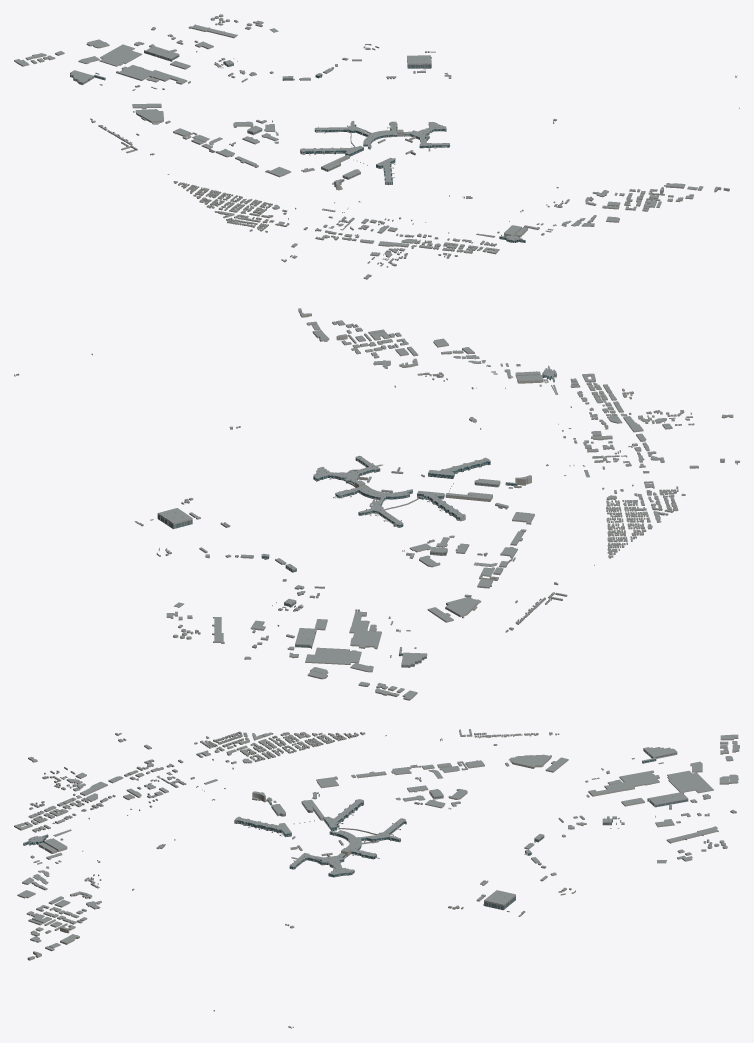
Rendered from airport-detail.glb.
3 views of the same model, one above another, from view 1: azimuth 30°, elevation 25°; view 2: azimuth 150°, elevation 25°; view 3: azimuth 270°, elevation 25° (orthographic). The views are drawn at different scales.
Visible parts, largest first — view 1: building.003, terminal.003, SFO detail · glass.002, hangar.003, parking.003; view 2: building.003, terminal.003, SFO detail · glass.002, hangar.003, parking.003; view 3: building.003, terminal.003, SFO detail · glass.002, hangar.003, parking.003.
Boxes of the visible parts, x1=… form: building.003: x1=14, y1=14, x2=739, y2=279; terminal.003: x1=94, y1=73, x2=525, y2=242; SFO detail · glass.002: x1=94, y1=74, x2=525, y2=242; hangar.003: x1=144, y1=46, x2=431, y2=80; parking.003: x1=70, y1=70, x2=360, y2=179; building.003: x1=14, y1=308, x2=739, y2=700; terminal.003: x1=261, y1=365, x2=556, y2=656; SFO detail · glass.002: x1=261, y1=369, x2=556, y2=655; hangar.003: x1=157, y1=508, x2=316, y2=648; parking.003: x1=401, y1=478, x2=500, y2=667; building.003: x1=14, y1=729, x2=739, y2=1028; terminal.003: x1=23, y1=757, x2=656, y2=877; SFO detail · glass.002: x1=24, y1=759, x2=656, y2=876; hangar.003: x1=484, y1=791, x2=688, y2=909; parking.003: x1=271, y1=747, x2=677, y2=816.
Size of the model in its own units: 4462 by 41.66 by 4585.
